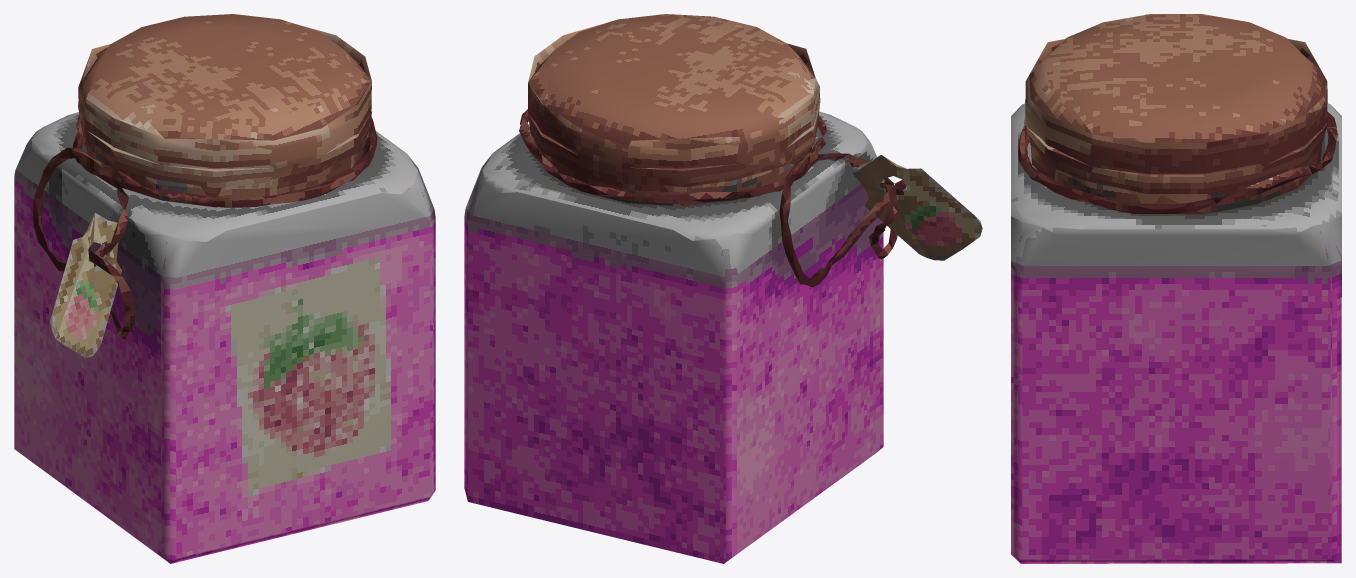
The model's file is jam_jar.glb.
3 views of the same model, side by side, from view 1: azimuth 30°, elevation 25°; view 2: azimuth 150°, elevation 25°; view 3: azimuth 270°, elevation 25° (orthographic). The views are drawn at different scales.
Parts seen in each view (by area): view 1: mesh; view 2: mesh; view 3: mesh.
Boxes of the visible parts, x1=… form: mesh: x1=14, y1=14, x2=435, y2=563; mesh: x1=464, y1=14, x2=982, y2=563; mesh: x1=1011, y1=14, x2=1341, y2=563.
Bounding box in the file's own units: 0.1145 × 0.12 × 0.0828.
1 material, 1 textured.
